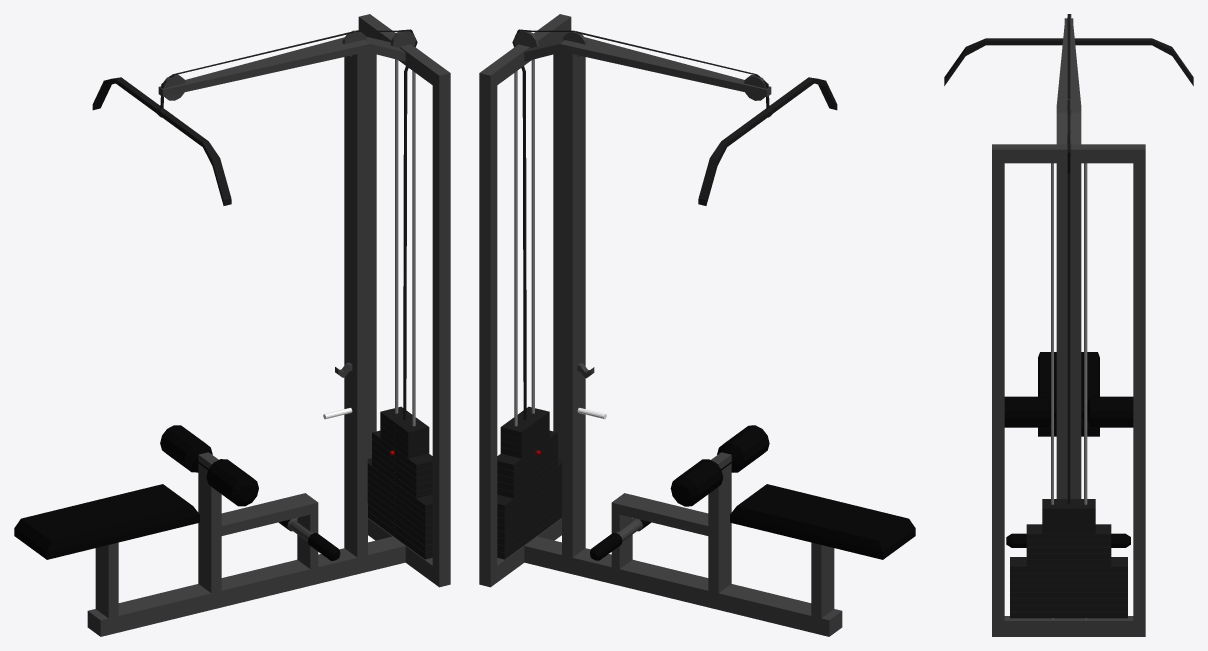
The model's file is LatPullDownMachine.fbx.
3 views of the same model, side by side, from view 1: azimuth 30°, elevation 25°; view 2: azimuth 150°, elevation 25°; view 3: azimuth 270°, elevation 25° (orthographic). The views are drawn at different scales.
Visible parts, largest first — view 1: LatPullDownMachine; view 2: LatPullDownMachine; view 3: LatPullDownMachine.
Part boxes in pixels (<box>): LatPullDownMachine: <box>14,14,450,636</box>; LatPullDownMachine: <box>479,14,915,636</box>; LatPullDownMachine: <box>944,14,1193,636</box>.
Bounding box in the file's own units: 153 × 203 × 89.63.
